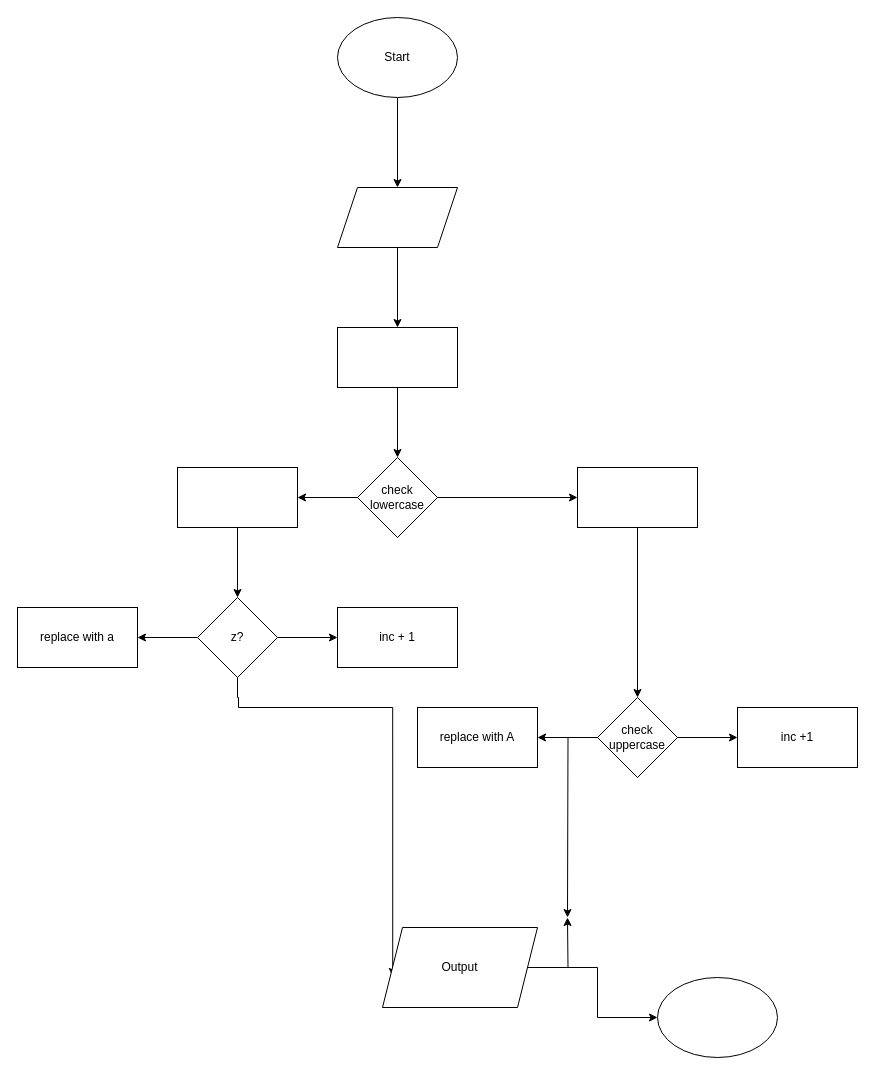
The diagram is 875 pixels wide and 1075 high, and some of its shapes have lost their labels. The centre of each missing label's shape, as x and y in pixels:
"Each char in input" belongs at [397,357].
"End" belongs at [717,1017].
"No" belongs at [637,497].
"User input" belongs at [397,217].
"Yes" belongs at [237,497].
